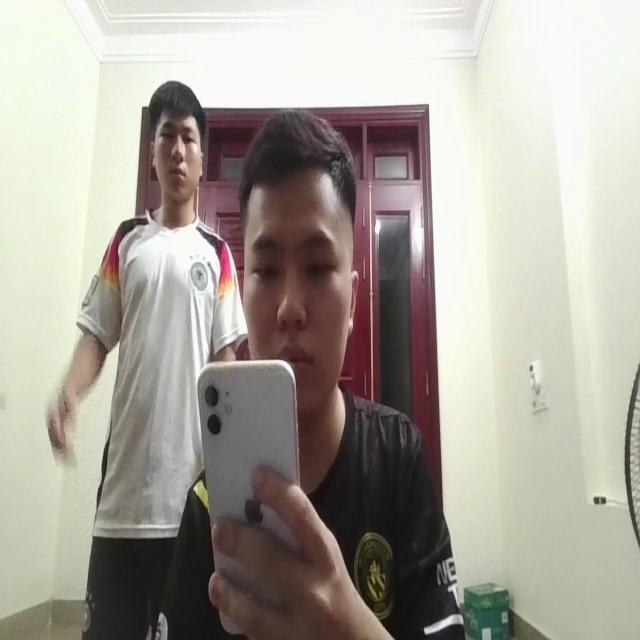extra_person: (76, 83, 233, 556)
phone: (198, 351, 310, 610)
student: (182, 95, 452, 640)
